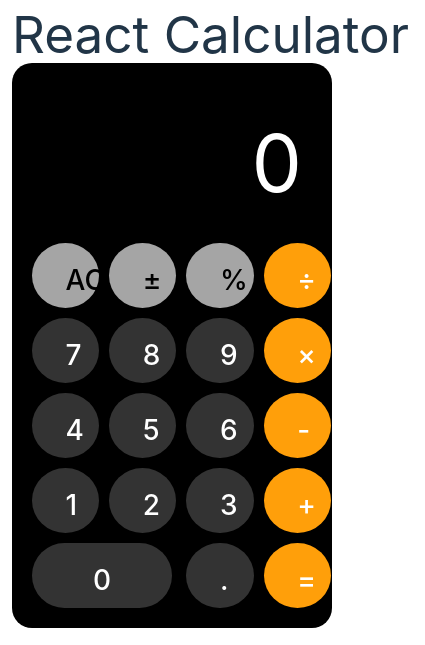
Test: Calculator › clear button resets calculator
Click the button "5" at (143, 425), box [109,393,176,458]
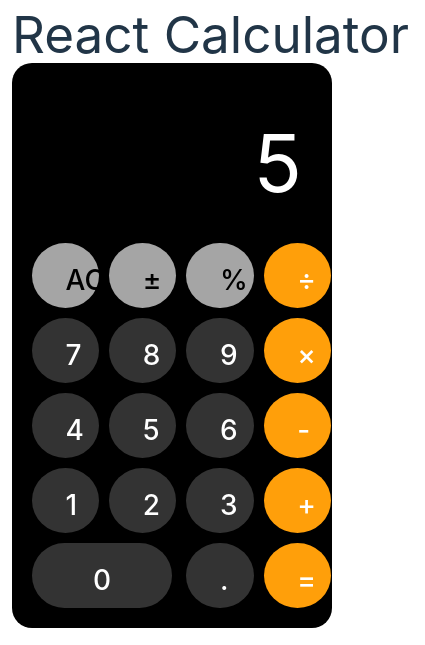
Click the button "AC" at (66, 275), box [32,243,99,308]
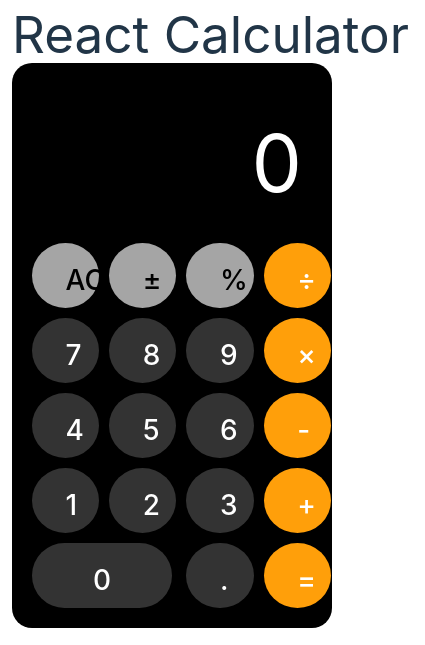
Expected: the text with test id "display" reads "0", [252,114,302,211]
